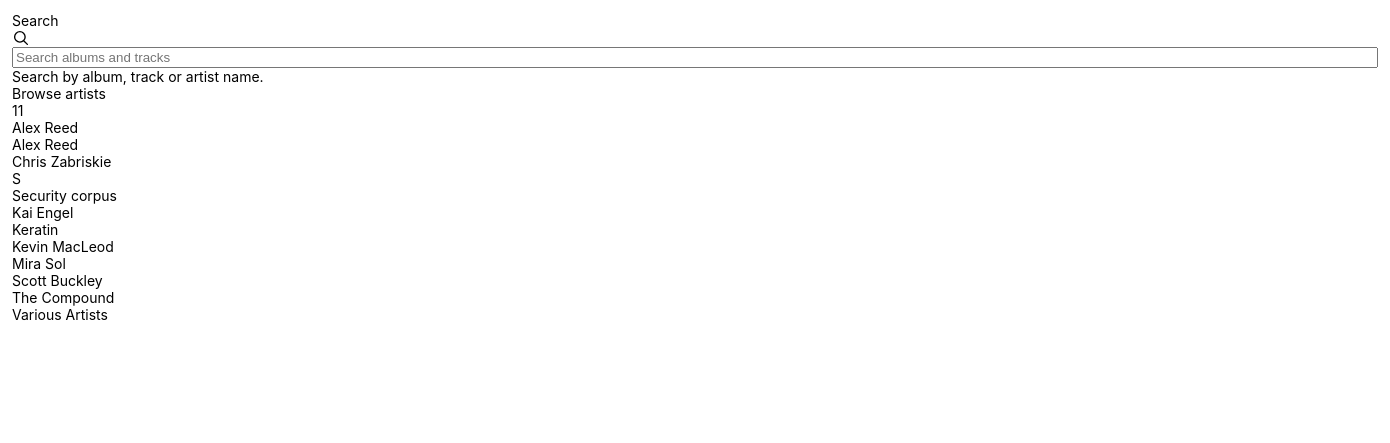
hiding the only hit type names the filter instead of a miss
Type "zabriskie" into the search field labelled "Search albums and tracks" at (695, 58), box [12, 47, 1378, 68]
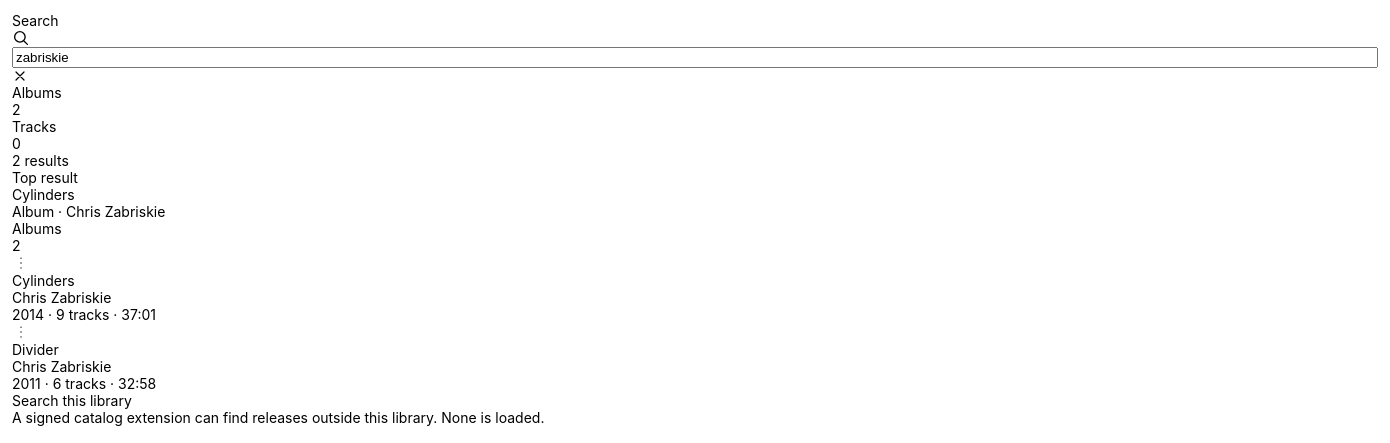
Click the button "Albums 2" at (37, 92), box [12, 84, 1378, 118]
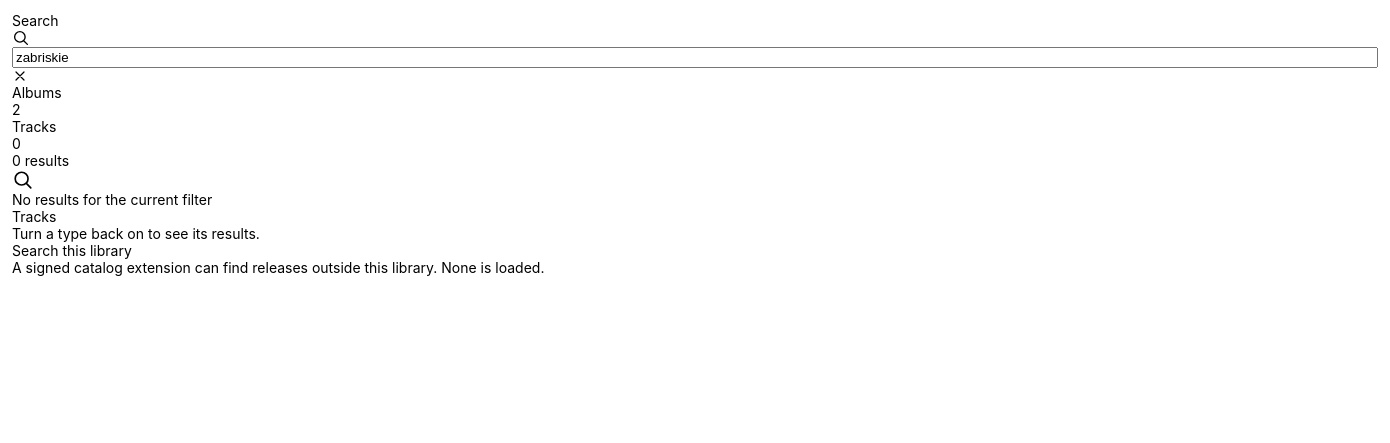
Expected: the text "Tracks" below "No results for the current filter" is shown, [12, 208, 56, 225]
Expected: the element with id "search-filter-empty" is shown, [12, 169, 260, 242]
Expected: the heading "No results for the current filter" is shown, [12, 191, 212, 208]
Click the button "Albums 2" at (37, 92), box [12, 84, 1378, 118]
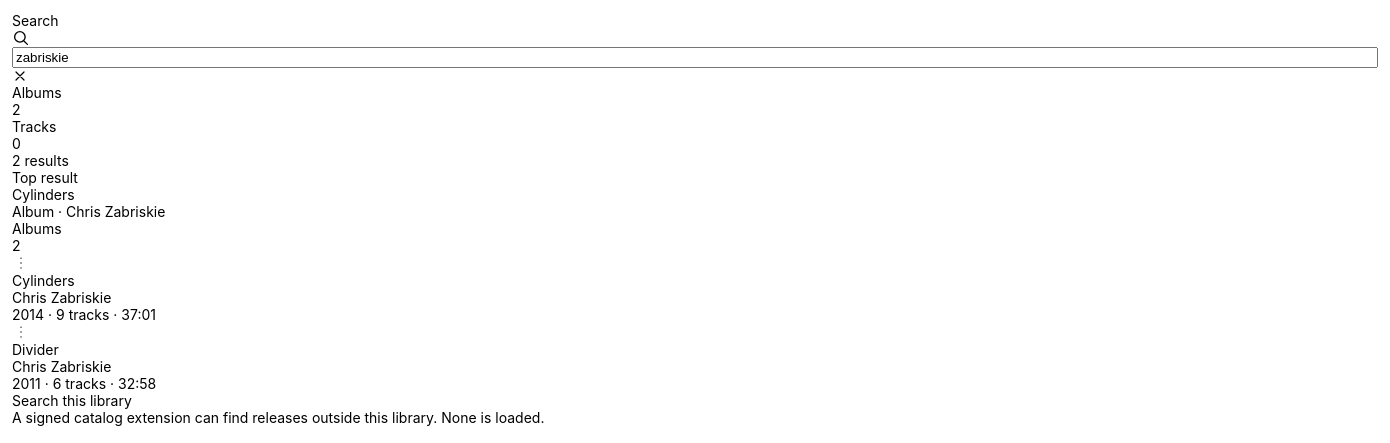
Expected: the element with id "search-filter-empty" is gone
